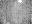person: (16, 1, 21, 5)
